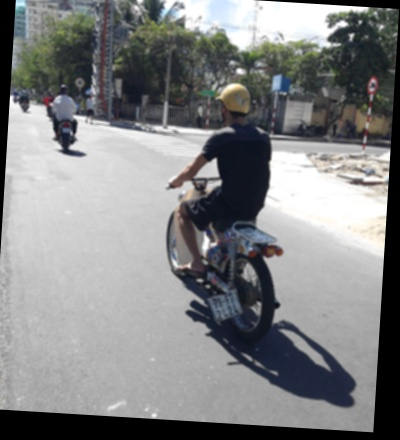Bien-so: (205, 313, 248, 352), (47, 142, 60, 153)
